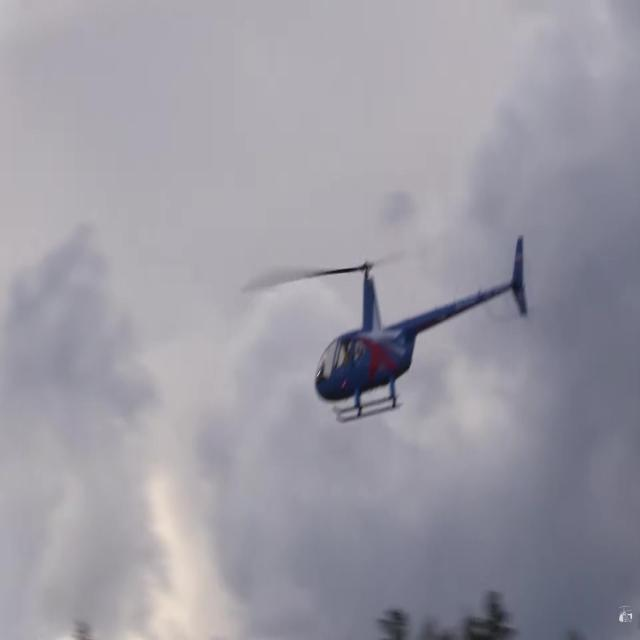CIV_HELO: (313, 231, 531, 427)
